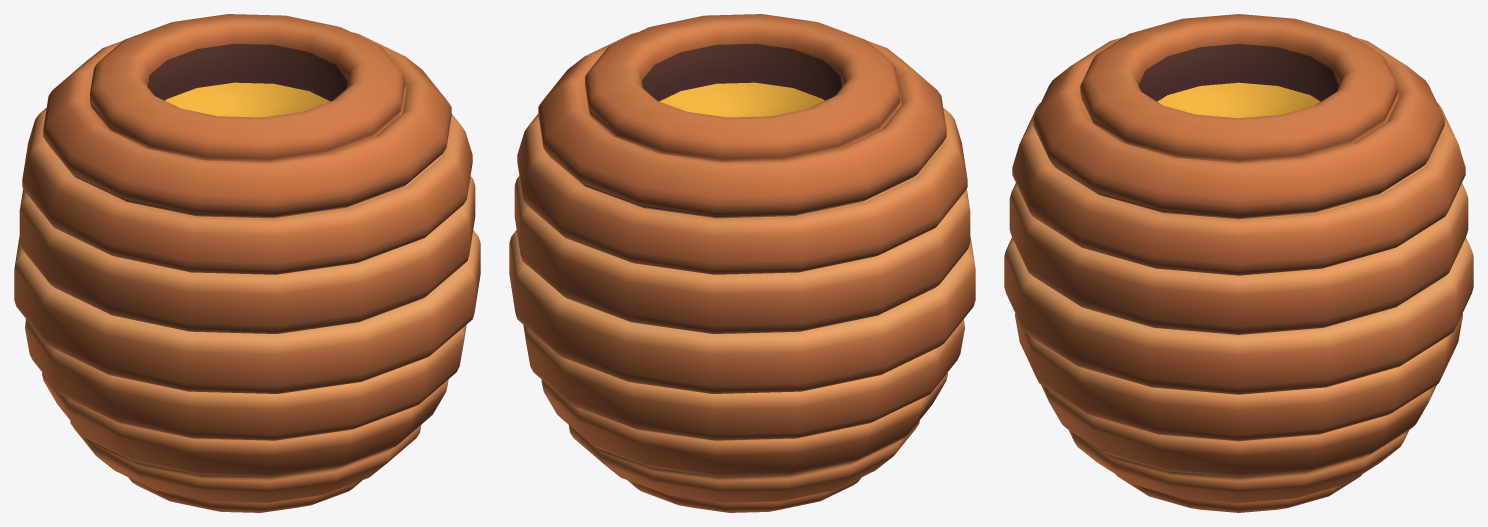
Rendered from Honey.fbx.
3 views of the same model, side by side, from view 1: azimuth 30°, elevation 25°; view 2: azimuth 150°, elevation 25°; view 3: azimuth 270°, elevation 25° (orthographic).
Visible parts, largest first — view 1: Honey; view 2: Honey; view 3: Honey.
Boxes of the visible parts, <box> form: Honey: <box>14,14,480,512</box>; Honey: <box>509,14,975,512</box>; Honey: <box>1004,14,1473,512</box>.
Bounding box in the file's own units: 0.2702 × 0.2552 × 0.2702.
